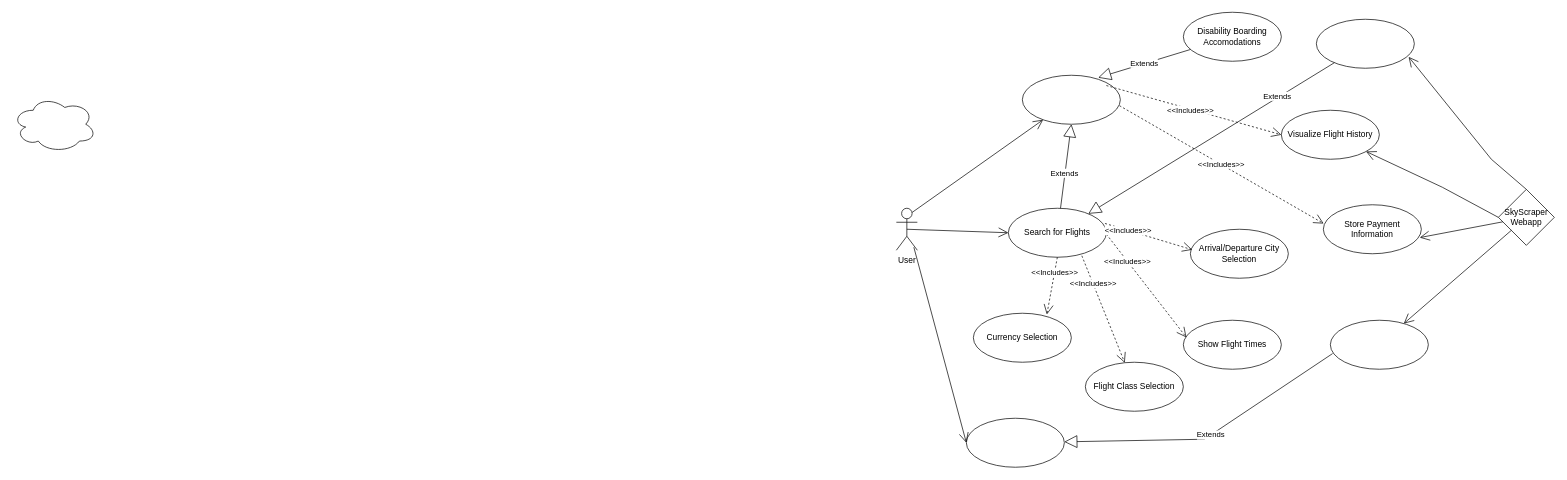
Some shapes in this 1567 by 480 pixel diagram are drawn without their labels. Here are the shapes that lost their labels. From the top down, the centre of each, then its label:
At point (1365, 43): "Calculates [Lowest] Flight Prices".
At point (1071, 99): "Secure Login".
At point (1379, 344): "Continuous Patching".
At point (1015, 442): "User Feedback".
